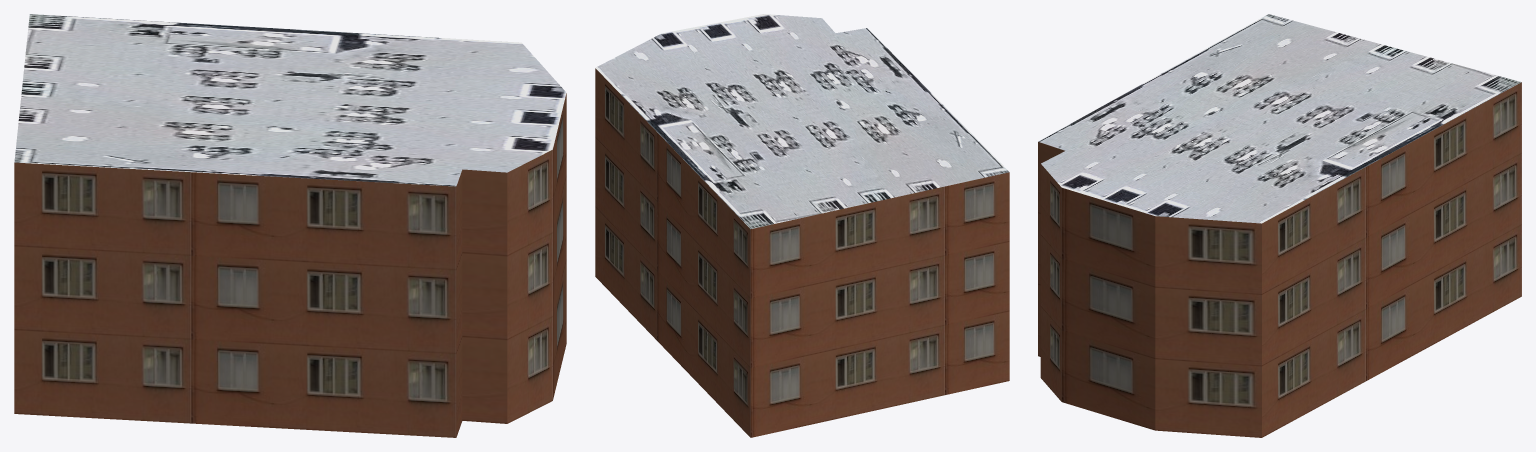
The model's file is ResTex__3757.fbx.
The picture shows the model from 3 angles, left to right: view 1: azimuth 30°, elevation 25°; view 2: azimuth 150°, elevation 25°; view 3: azimuth 270°, elevation 25°; orthographic projection. The views are drawn at different scales.
Visible parts, largest first — view 1: CityEngineMaterial_20_m, CityEngineMaterial_8_m; view 2: CityEngineMaterial_20_m, CityEngineMaterial_8_m; view 3: CityEngineMaterial_20_m, CityEngineMaterial_8_m.
Boxes of the visible parts, x1,y1,x2,y2 form: CityEngineMaterial_20_m: (14, 93, 566, 437); CityEngineMaterial_8_m: (14, 14, 566, 186); CityEngineMaterial_20_m: (595, 68, 1009, 437); CityEngineMaterial_8_m: (595, 14, 1009, 228); CityEngineMaterial_20_m: (1038, 82, 1521, 437); CityEngineMaterial_8_m: (1038, 14, 1521, 223).
Size of the model in its own units: 18.86 by 9 by 18.4.
2 materials, 2 textured.
